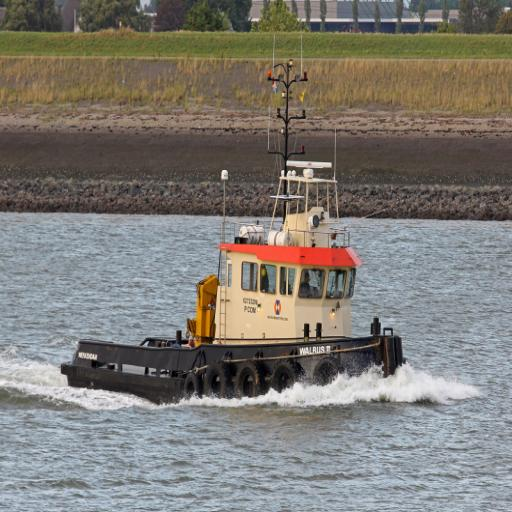tugboat: (58, 159, 414, 420)
